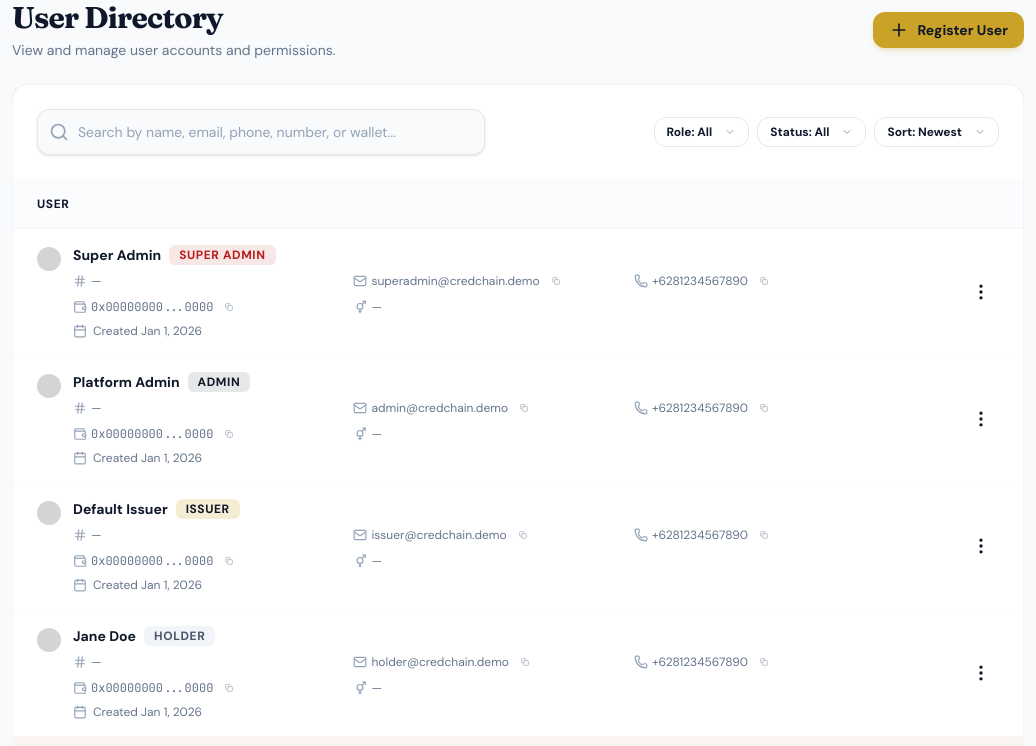
Test: UserList › filter dropdown updates URL when selecting Active only
Expected: the heading "User Directory" is shown, [12, 0, 223, 36]
Click the button "Status: All".
click(812, 132)  # box [757, 117, 866, 147]
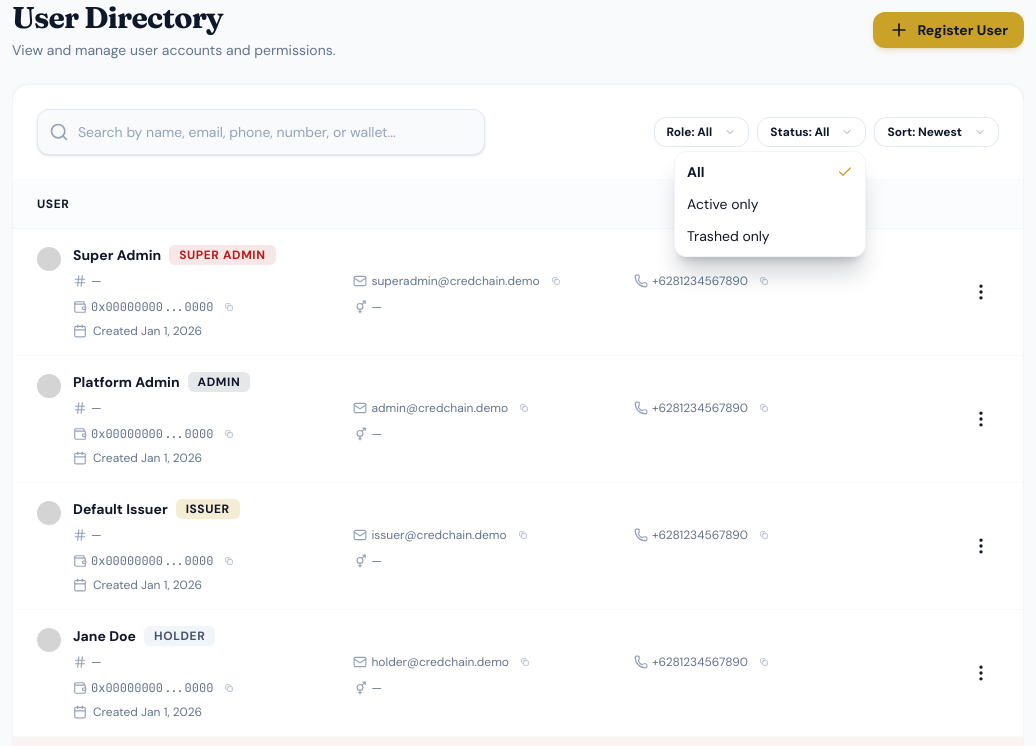
Click the menu item "Active only".
click(723, 204)  # box [687, 195, 758, 213]
(page scrolled)
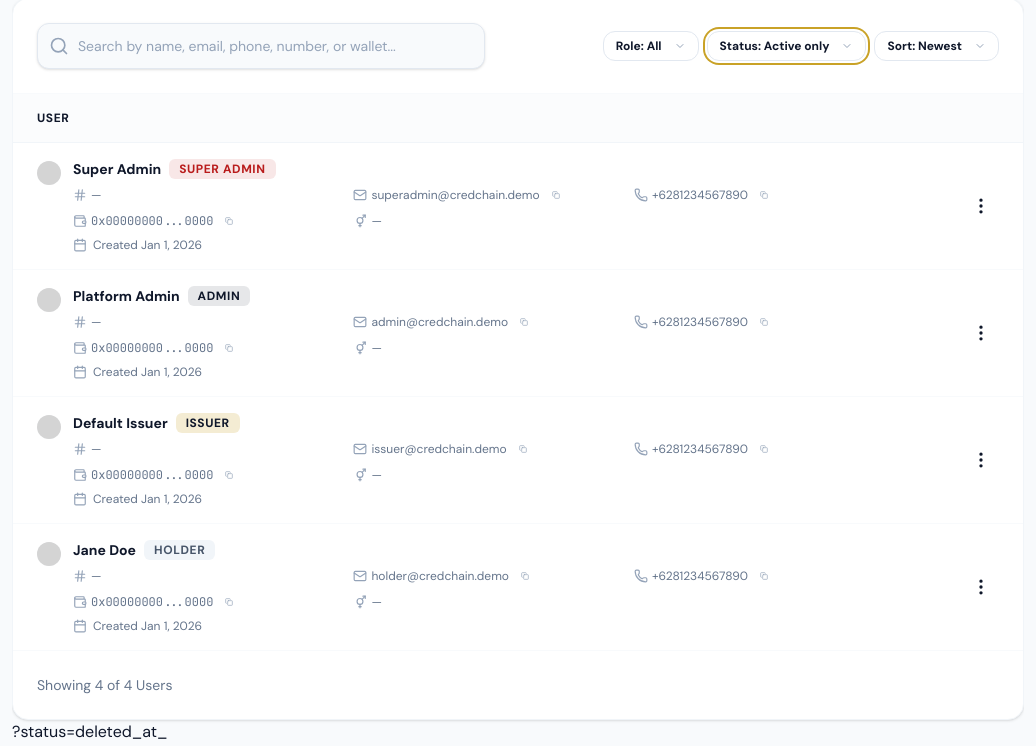
Expected: the text with test id "location-search" shows "status=deleted_at_", [12, 721, 168, 742]
